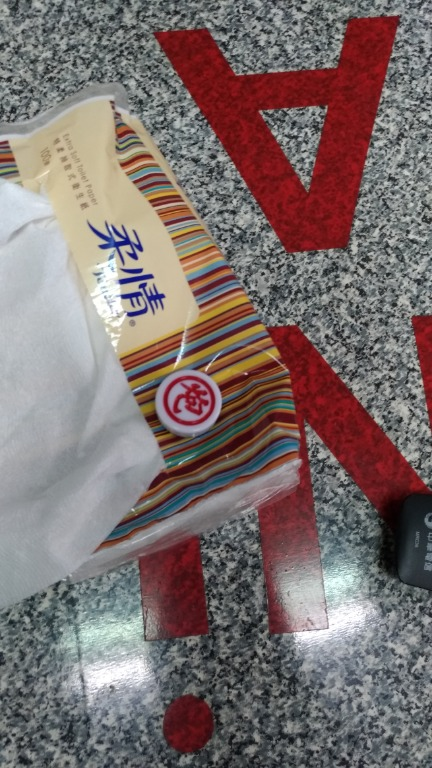r-cannon: (150, 365, 240, 443)
